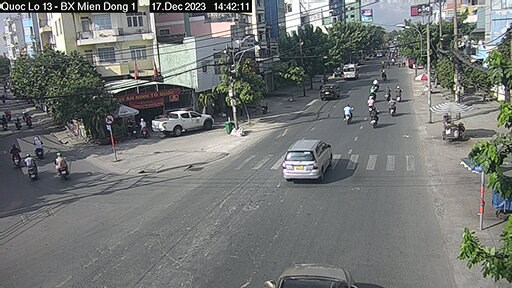car: (283, 136, 332, 180), (150, 110, 213, 136), (318, 81, 339, 100), (343, 63, 361, 84)
motorbike: (53, 150, 70, 179), (26, 157, 39, 181), (14, 141, 25, 168), (342, 102, 354, 126), (385, 98, 398, 118), (370, 107, 379, 134), (33, 137, 45, 156)
